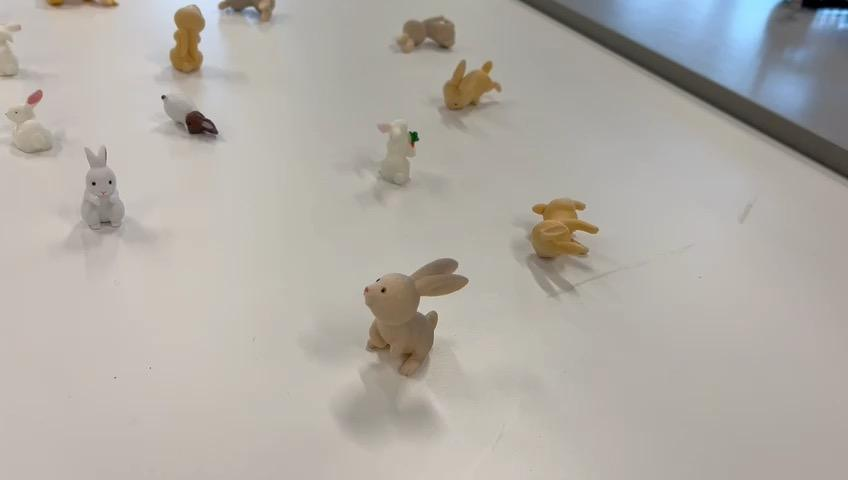pet: (359, 252, 471, 382), (524, 193, 600, 263), (80, 143, 129, 230), (4, 86, 58, 157), (440, 57, 504, 115), (156, 90, 223, 140), (165, 1, 209, 77), (375, 116, 421, 188), (395, 14, 460, 54), (1, 18, 24, 78)
